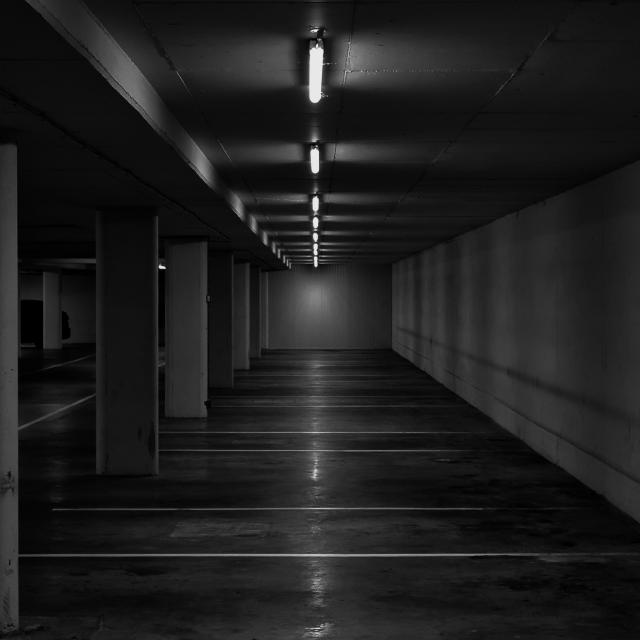pillar: (165, 239, 261, 419), (96, 211, 159, 475), (122, 310, 131, 320), (125, 308, 128, 310)
